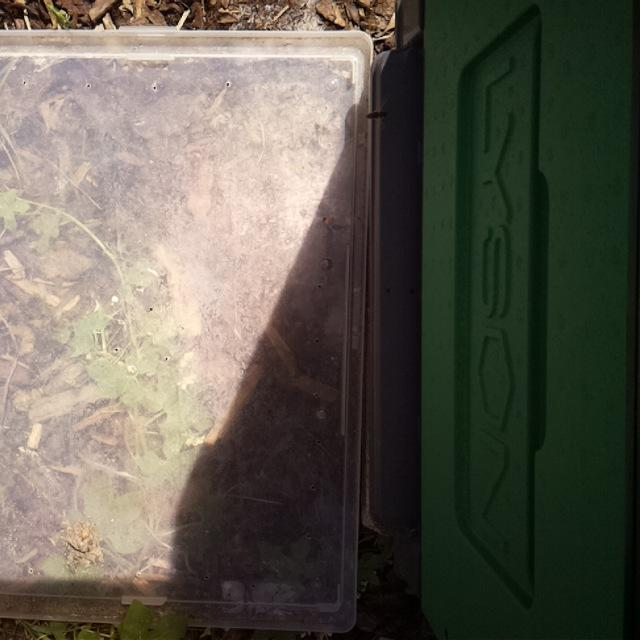worker-bee: (364, 102, 396, 124)
